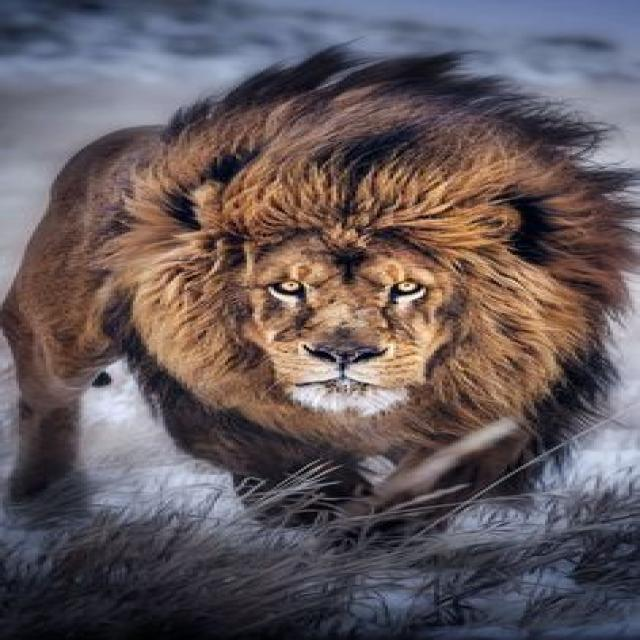lions: (0, 29, 640, 640)
